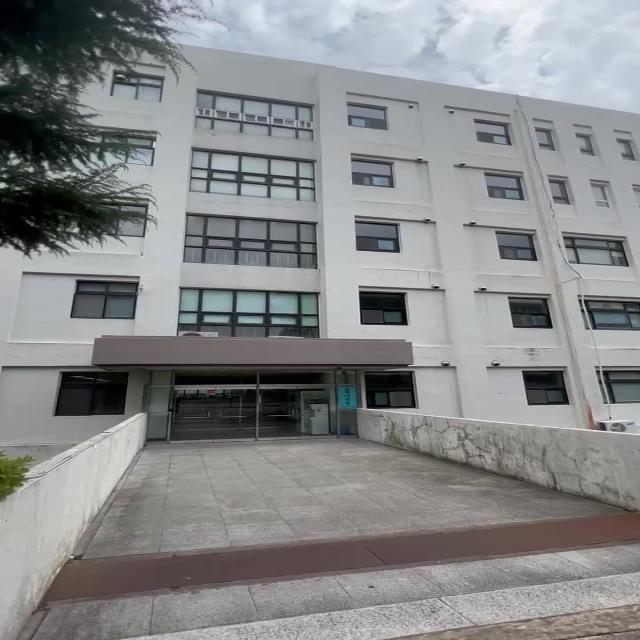building: (101, 61, 640, 440)
